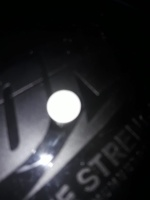Arveles: (45, 88, 82, 127)
